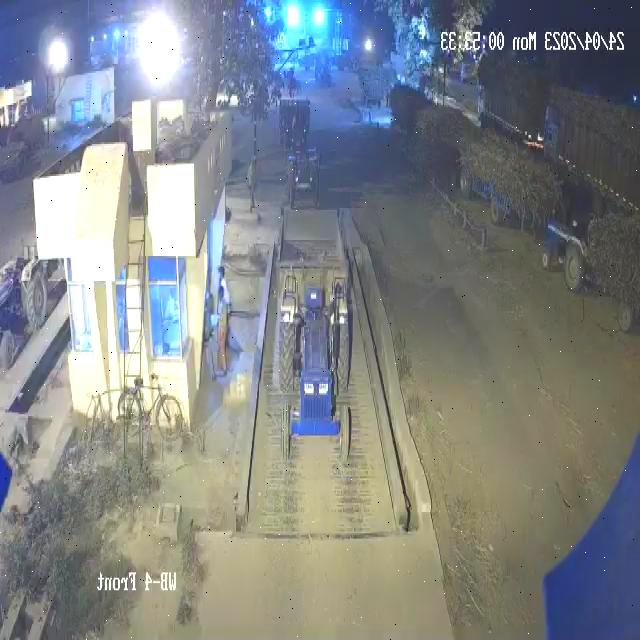Tratores - v5 YOLO V8L 2024-11-13: (276, 286, 352, 478), (533, 208, 588, 298), (284, 136, 322, 207)
